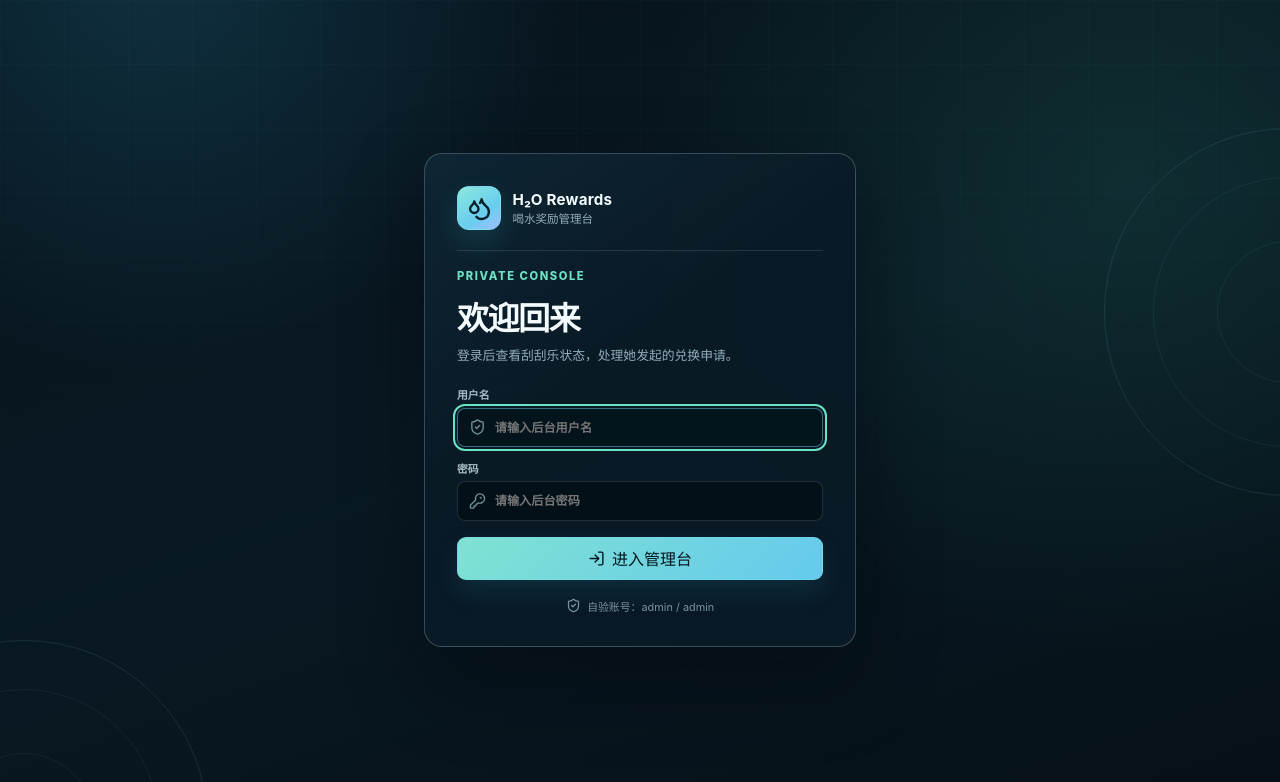
Test: WaterAdminPage › shows the redeemed amount and uses scratch-card terminology after login
The width and height of the screenshot is (1280, 782).
Type "admin" into the field labelled "用户名".
click(640, 427); type("admin")  # box [457,408,823,447]
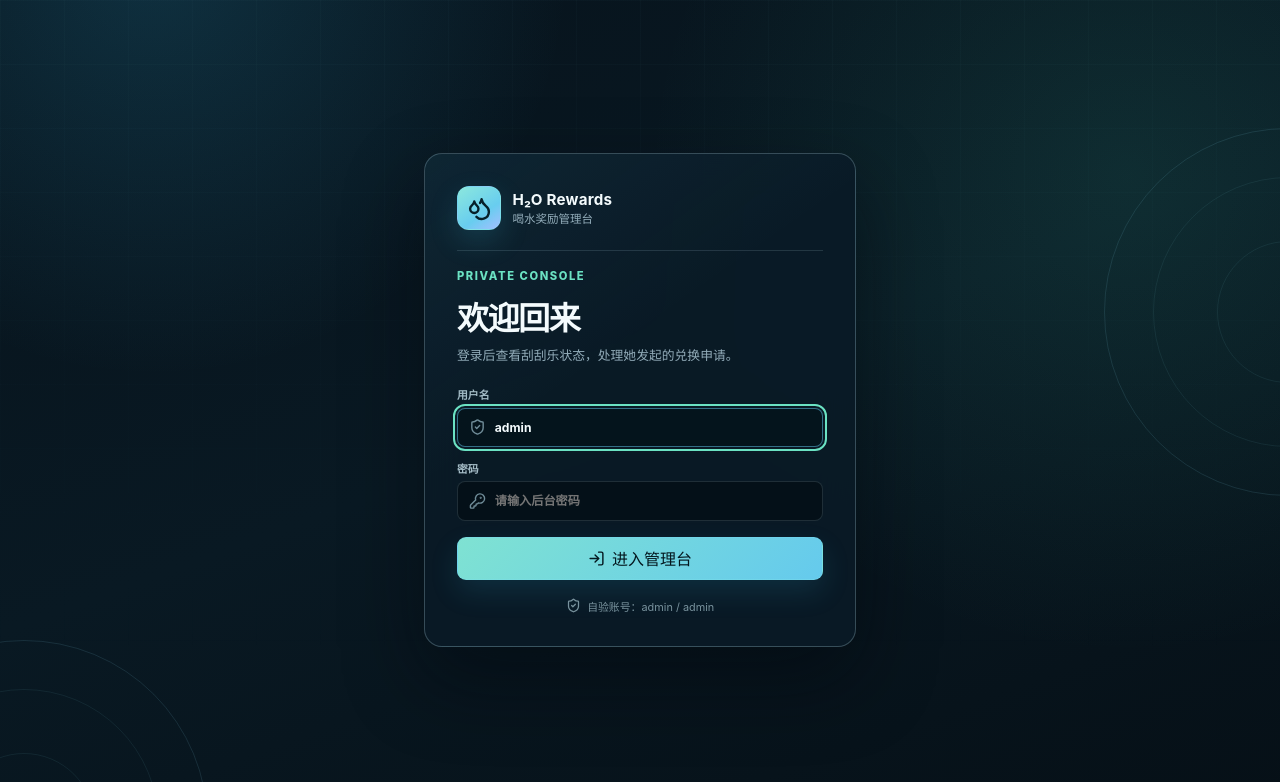
Type "admin" into the password field labelled "密码".
click(640, 501); type("admin")  # box [457,481,823,521]
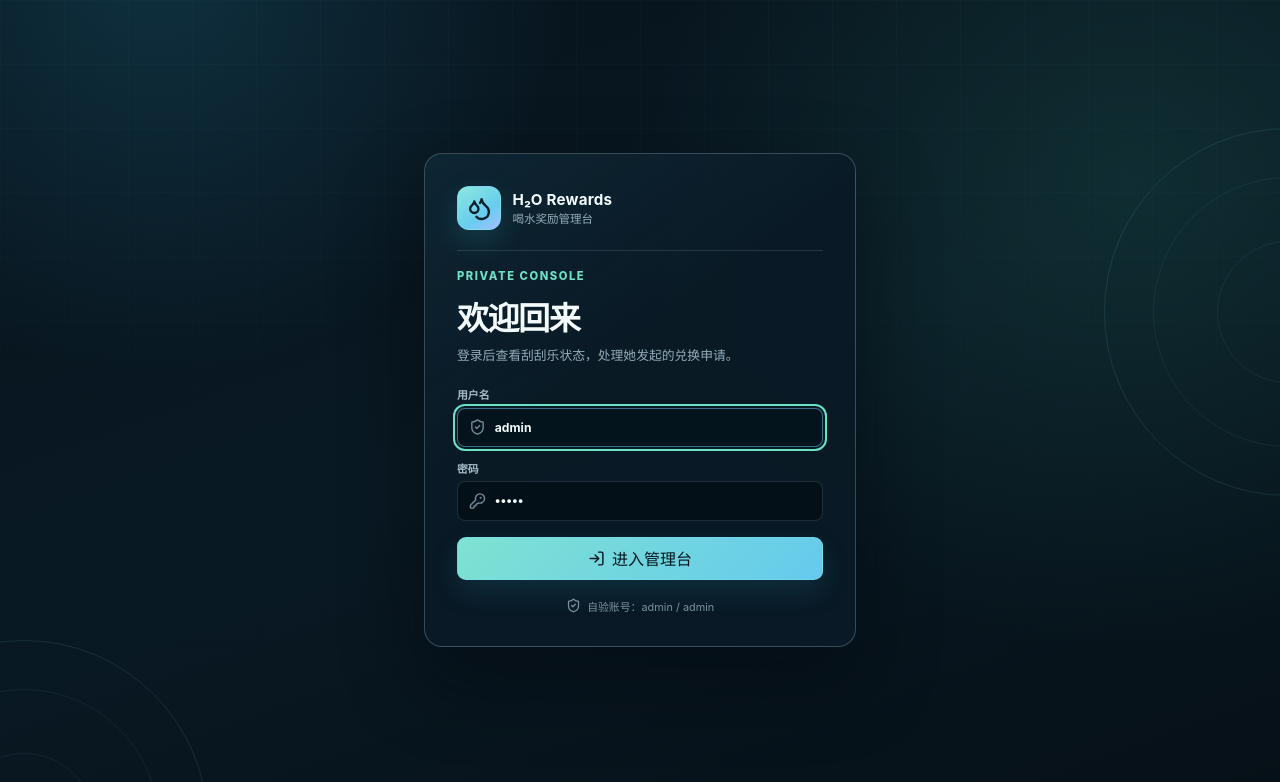
Submit the form, box [457,386,823,580]
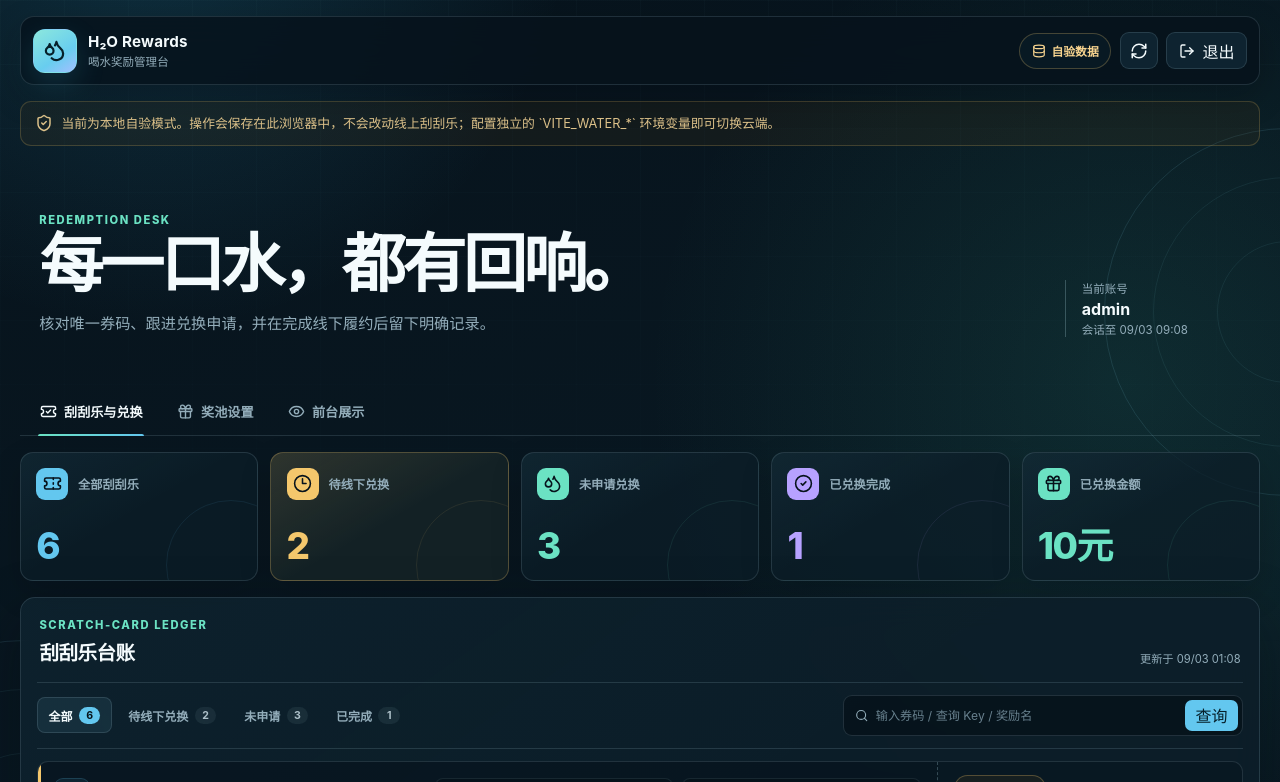
Expected: the text "已兑换金额" is shown, [1080,477,1140,492]
Expected: the text "10元" is shown, [1038,523,1112,568]
Expected: the button "刮刮乐与兑换" is shown, [26,388,157,435]
